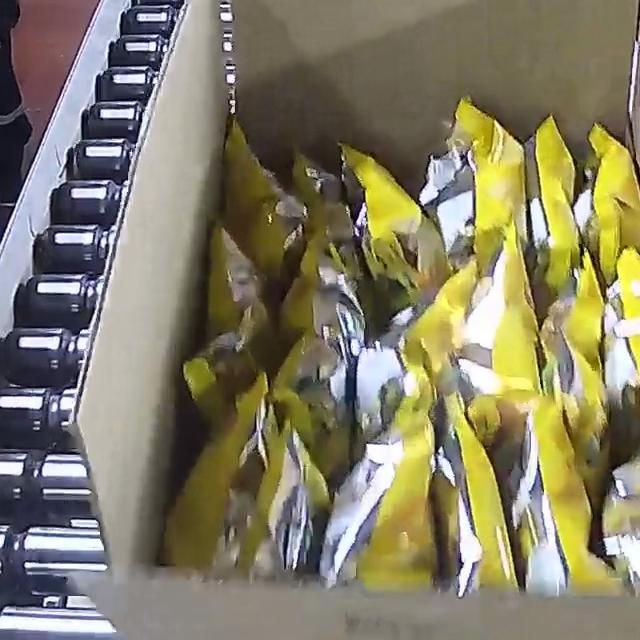salted: (158, 92, 640, 598)
